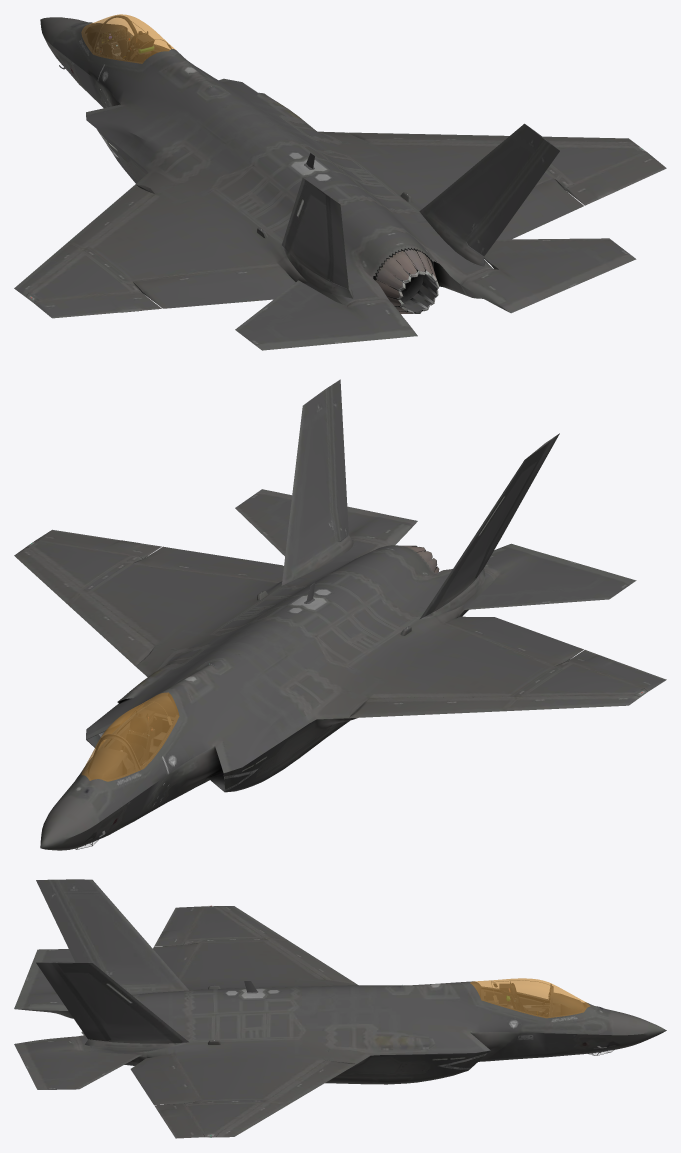
The model's file is f35-50fe9efd.glb.
The picture shows the model from 3 angles, top to bottom: view 1: azimuth 30°, elevation 25°; view 2: azimuth 150°, elevation 25°; view 3: azimuth 270°, elevation 25°; orthographic projection. The views are drawn at different scales.
Visible parts, largest first — view 1: body, stab_L, stab_R, ail_L, rud_R, ail_R, rud_L; view 2: body, stab_L, stab_R, rud_R, ail_L, ail_R, rud_L; view 3: body, stab_R, rud_L, rud_R, stab_L, ail_R.
Boxes of the visible parts, left/top/right/bottom form: body: left=14, top=14, right=666, bottom=338; stab_L: left=235, top=264, right=385, bottom=350; stab_R: left=483, top=238, right=636, bottom=302; ail_L: left=143, top=281, right=258, bottom=308; rud_R: left=466, top=173, right=536, bottom=247; ail_R: left=504, top=189, right=583, bottom=238; rud_L: left=323, top=221, right=347, bottom=282; body: left=14, top=379, right=666, bottom=850; stab_L: left=450, top=551, right=636, bottom=620; stab_R: left=235, top=489, right=385, bottom=571; rud_R: left=329, top=427, right=347, bottom=537; ail_L: left=494, top=623, right=583, bottom=662; ail_R: left=146, top=546, right=258, bottom=569; rud_L: left=475, top=474, right=536, bottom=571; body: left=14, top=879, right=666, bottom=1138; stab_R: left=19, top=1043, right=150, bottom=1089; rud_L: left=52, top=913, right=115, bottom=980; rud_R: left=52, top=986, right=114, bottom=1034; stab_L: left=19, top=949, right=74, bottom=996; ail_R: left=135, top=1071, right=184, bottom=1104.
Size of the model in its own units: 13.13 by 3.99 by 15.7.
3 materials, 1 textured.
